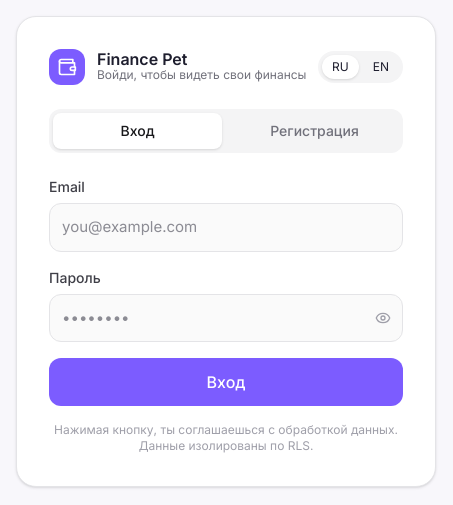
AuthPage — показ/скрытие пароля › shows password when toggle is clicked
The image size is (453, 505).
In the password field with placeholder "••••••••": [226, 318] box [49,294,403,342], type "secret123"
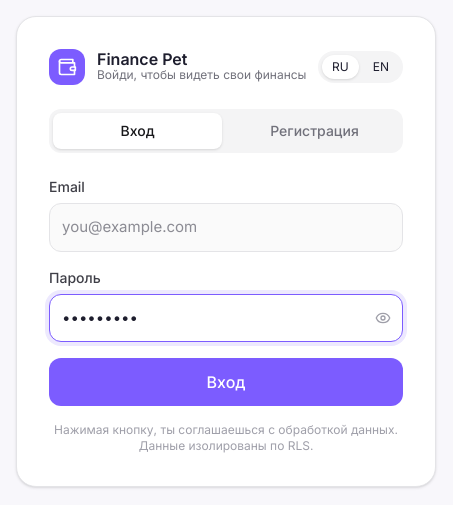
// Кнопка показа пароля — единственная кнопка с Eye-иконкой рядом с полем
Click the 5th button: [383, 318] box [375,310,391,326]
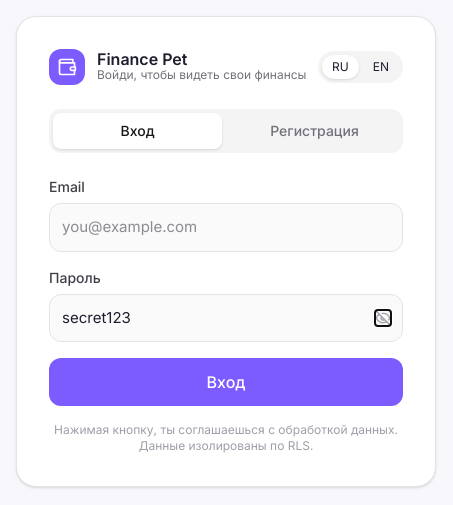
Expected: the field with placeholder "••••••••" shows its text, [49,294,403,342]
// Повторное нажатие скрывает пароль
Click the 5th button: [383, 318] box [375,310,391,326]
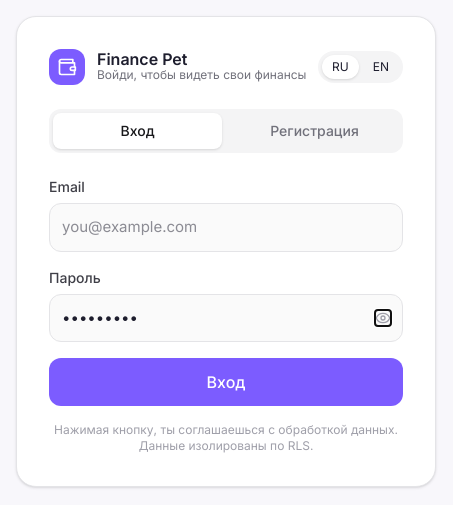
Expected: the password field with placeholder "••••••••" hides its text, [49,294,403,342]
